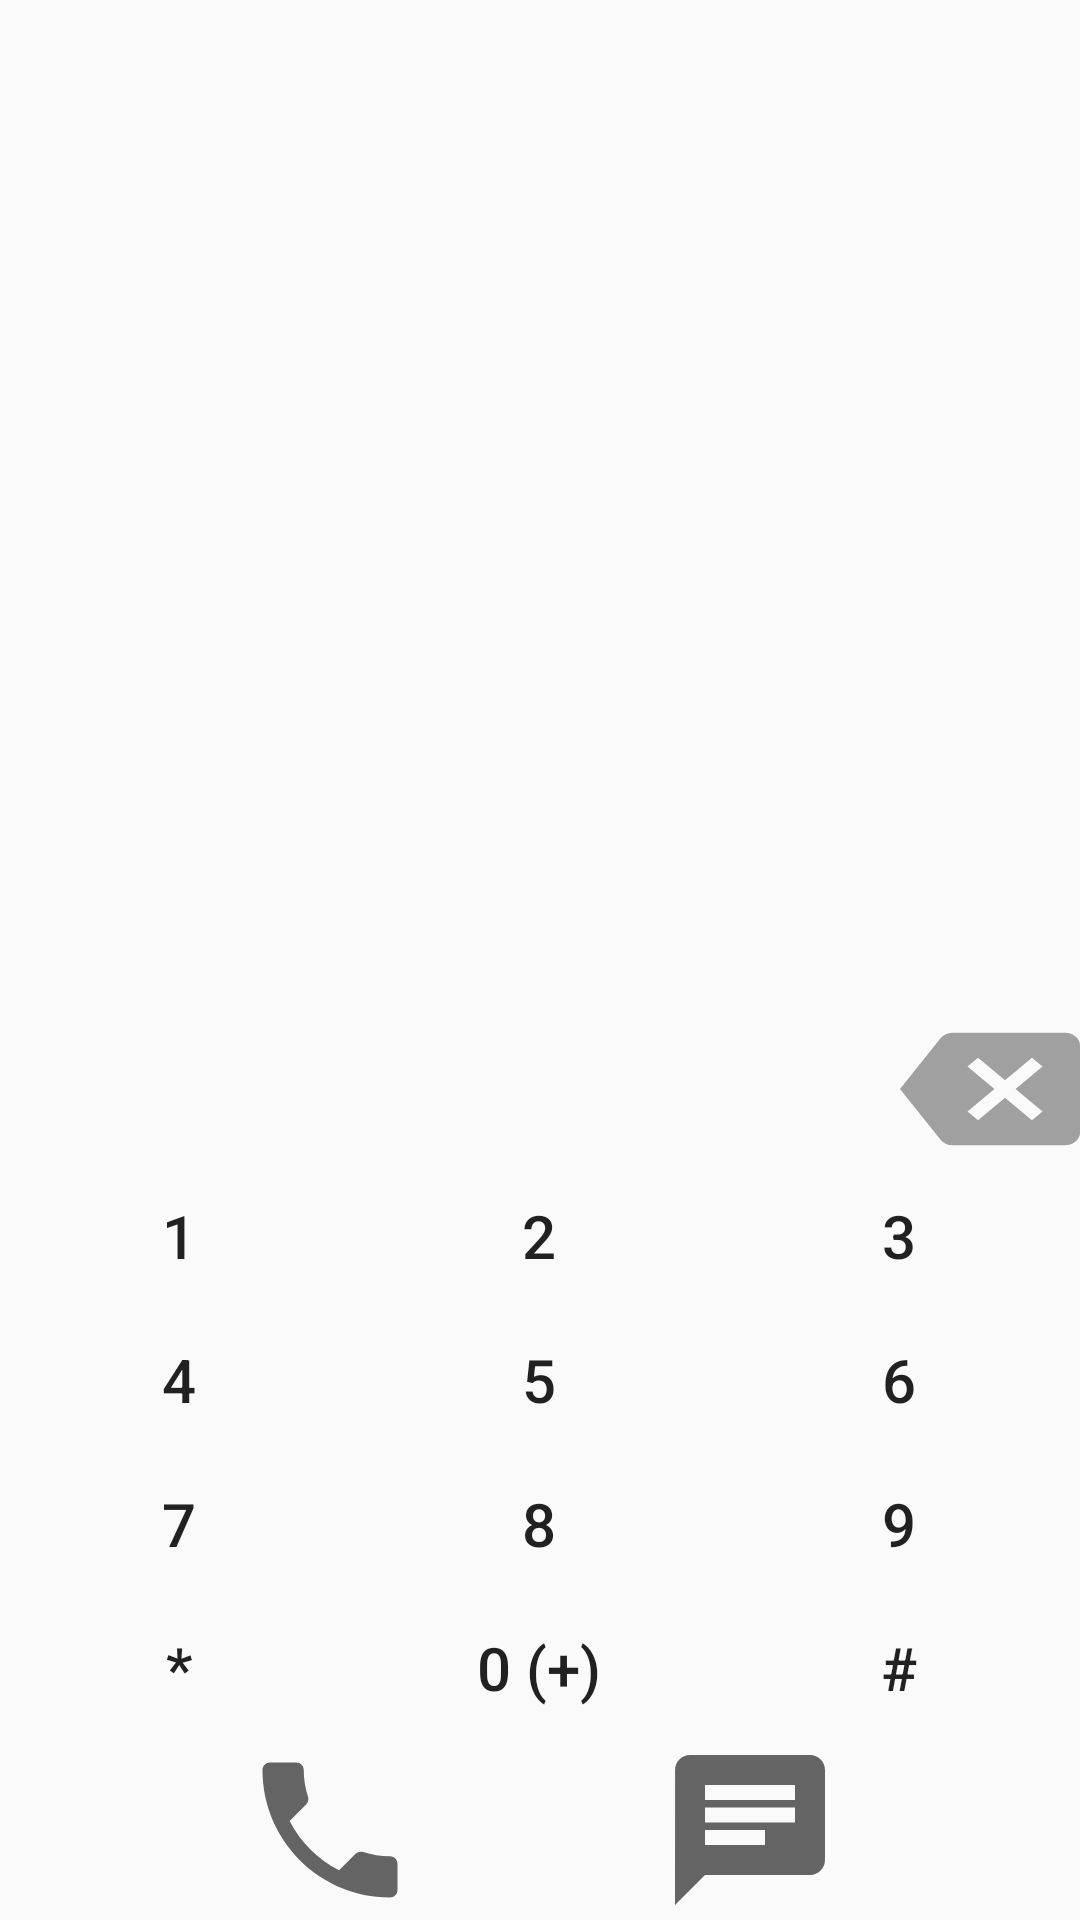

Icons on this 1080×1920 Android screen, each with the point to tap as (x=x, y=y):
backspace: (x=990, y=1089)
message: (x=750, y=1830)
phone: (x=330, y=1830)
